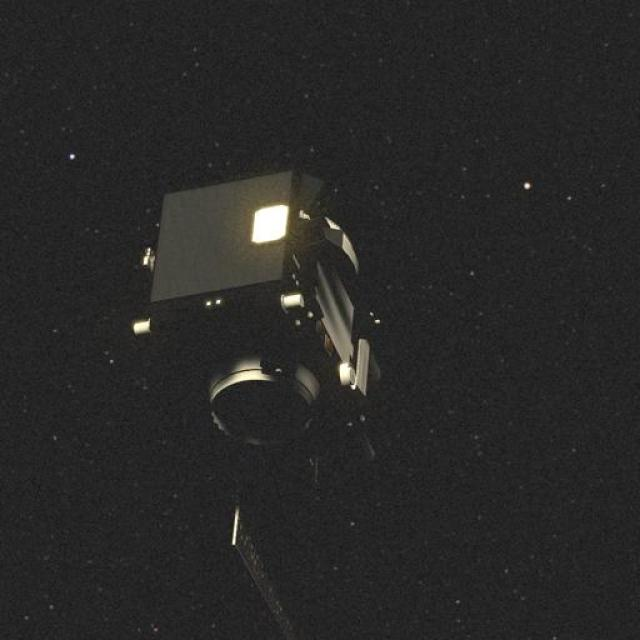proba_3_csc: (117, 166, 390, 640)
